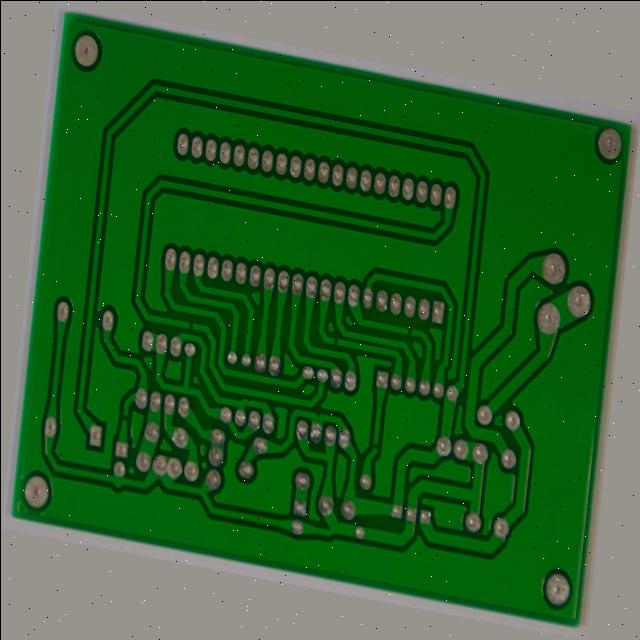open_circuit: (116, 470, 126, 491), (411, 306, 424, 320), (175, 348, 187, 363), (387, 448, 397, 465), (334, 334, 344, 350)
